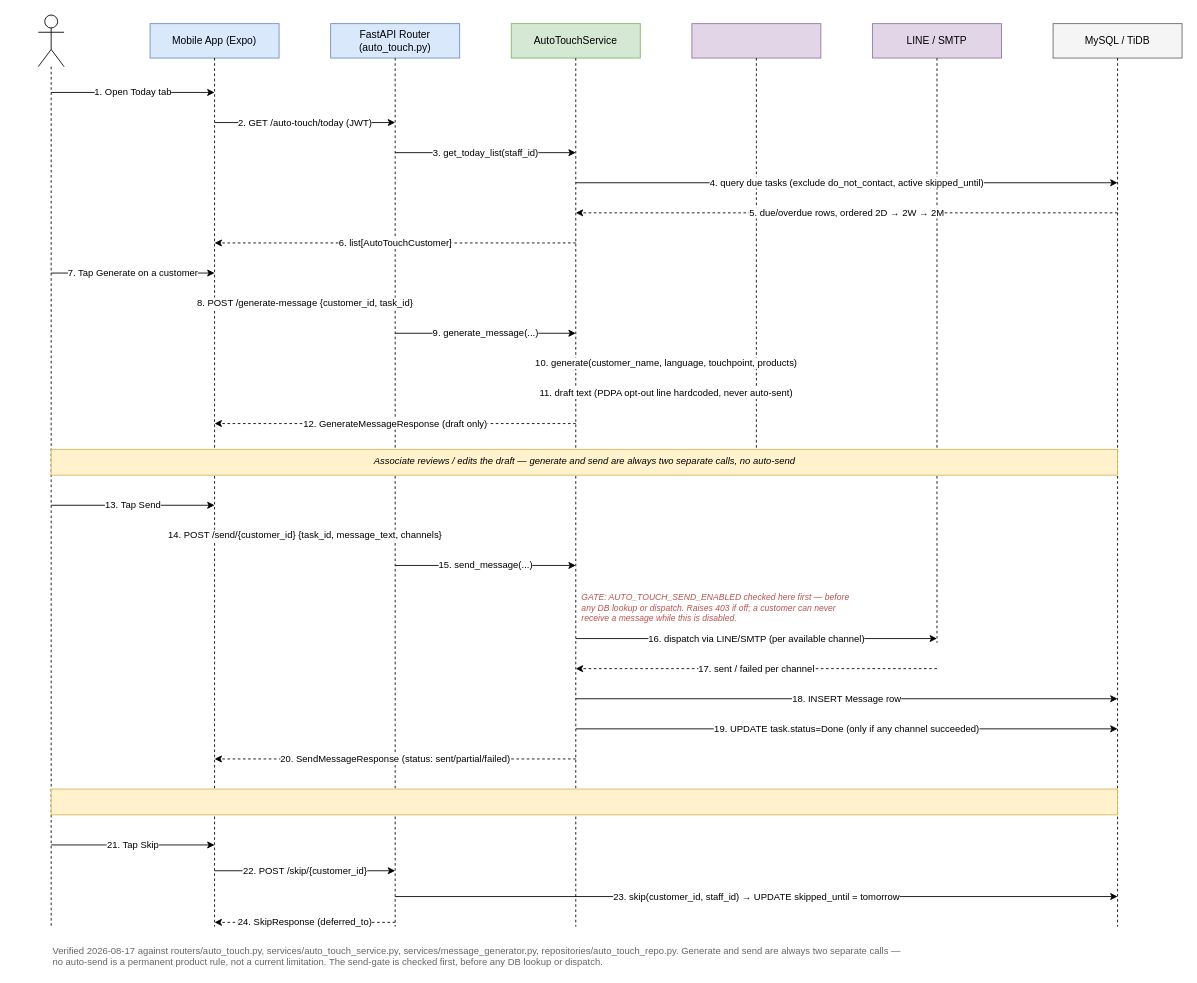
Image size: 1197x983. Some labels were removed from this diagram. Each missing label, with the centre of its shape:
"Alternative — associate skips instead of sending" belongs at point (584, 801).
"MessageGenerator → Anthropic API" belongs at point (756, 40).
"Sales Associate" belongs at point (50, 40).
